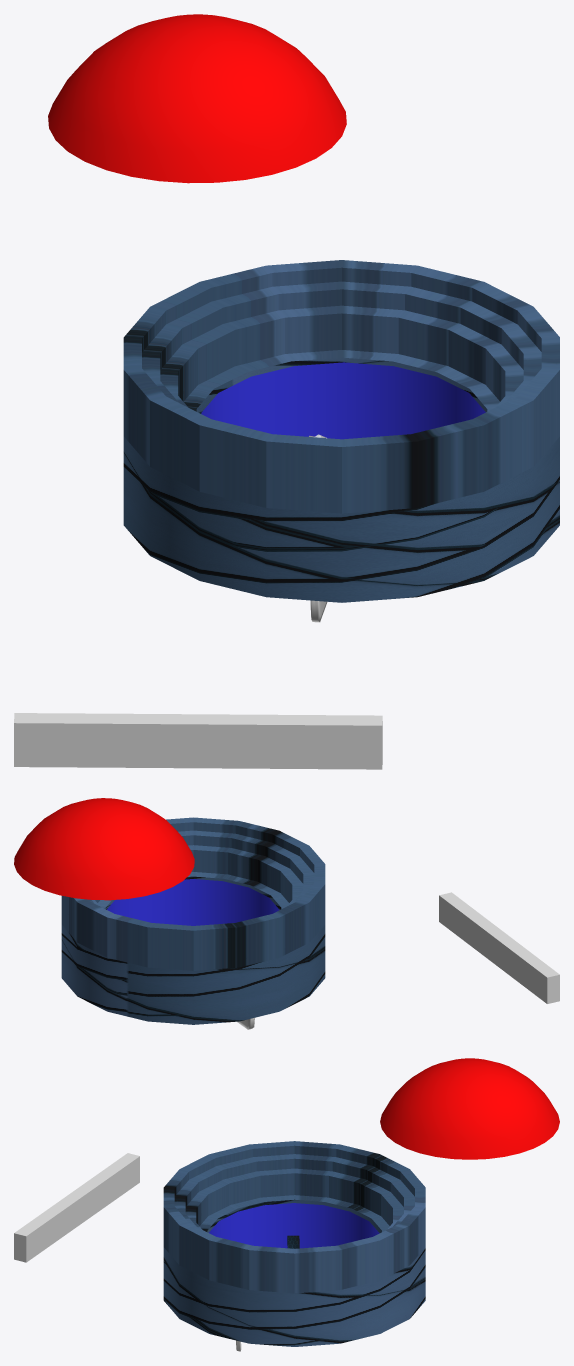
File: Arena.FBX
3 views of the same model, one above another, from view 1: azimuth 30°, elevation 25°; view 2: azimuth 150°, elevation 25°; view 3: azimuth 270°, elevation 25° (orthographic). The views are drawn at different scales.
Visible parts, largest first — view 1: Spectators Stand, Roof Force Field, Terrain Divider 2, Wall Force Field; view 2: Spectators Stand, Roof Force Field, Wall Force Field, Terrain Divider 2; view 3: Spectators Stand, Roof Force Field, Wall Force Field, Terrain Divider 2.
Boxes of the visible parts, x1,y1,x2,y2 form: Spectators Stand: (123, 260, 559, 602); Roof Force Field: (48, 14, 346, 183); Terrain Divider 2: (14, 713, 382, 769); Wall Force Field: (201, 362, 485, 439); Spectators Stand: (61, 817, 325, 1024); Roof Force Field: (14, 798, 194, 900); Wall Force Field: (106, 879, 279, 925); Terrain Divider 2: (439, 892, 559, 1003); Spectators Stand: (163, 1141, 425, 1346); Roof Force Field: (380, 1058, 559, 1159); Wall Force Field: (209, 1203, 379, 1248); Terrain Divider 2: (14, 1153, 139, 1262).
Size of the model in its own units: 5405 by 3254 by 6458.
Materials: 5 (3 with a texture image).
